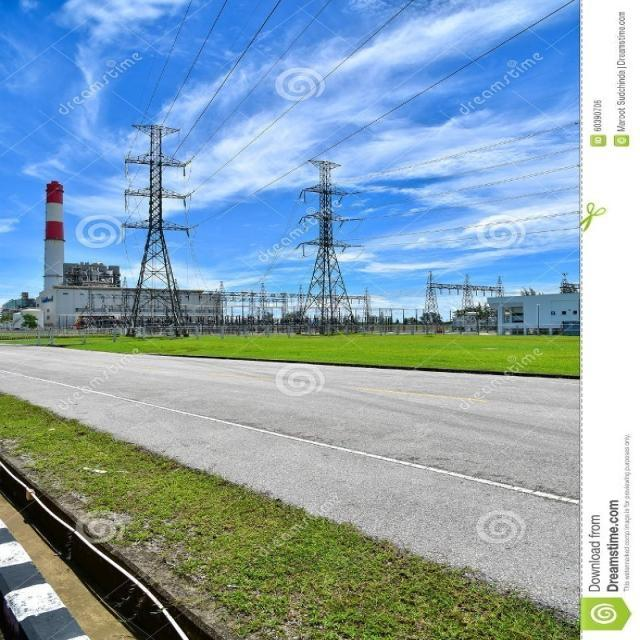non-critical vegetation: (122, 110, 206, 329), (298, 158, 368, 322)
